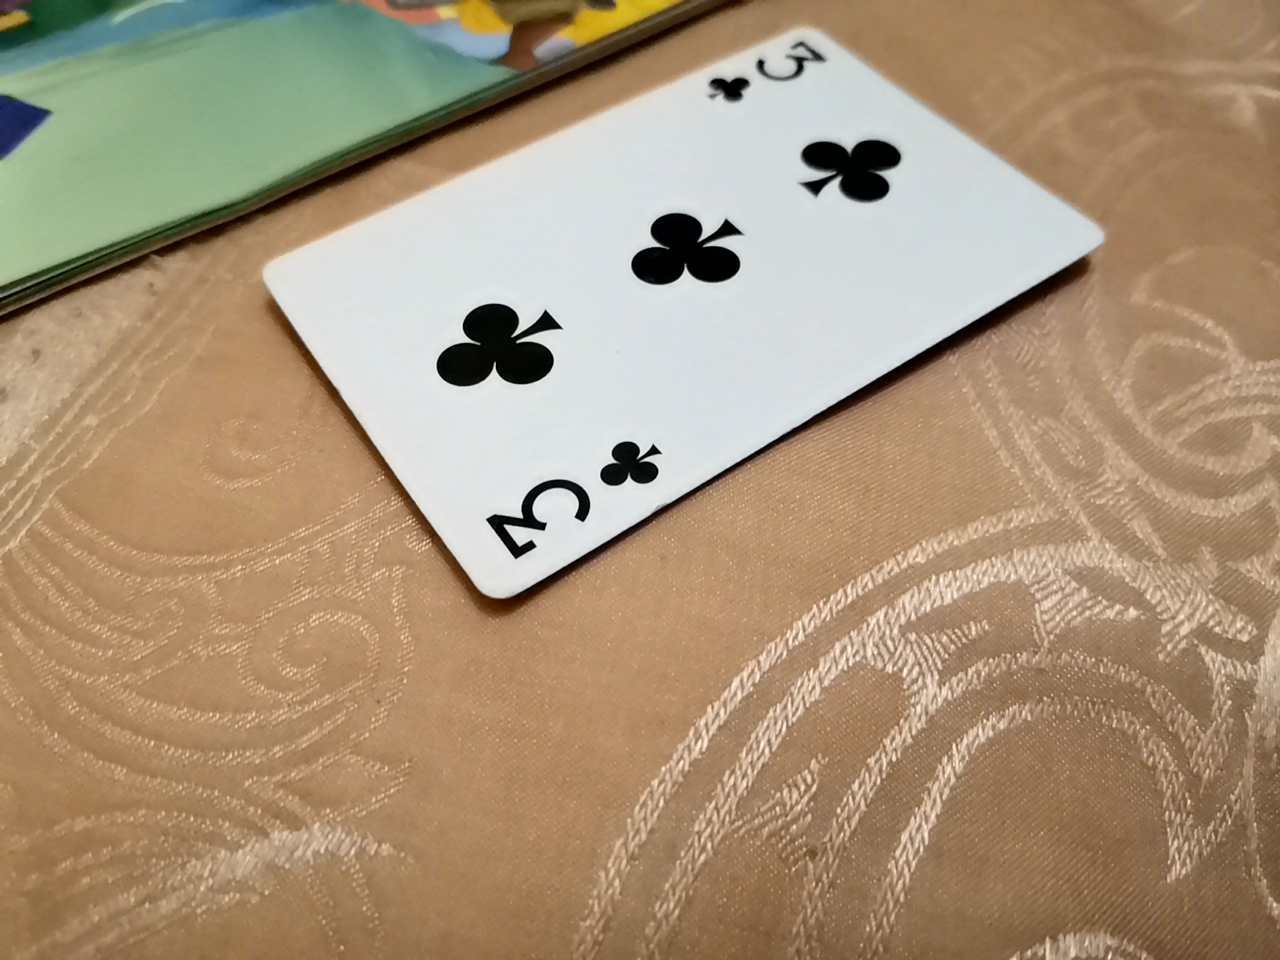mh 3: (247, 56, 1104, 652)
